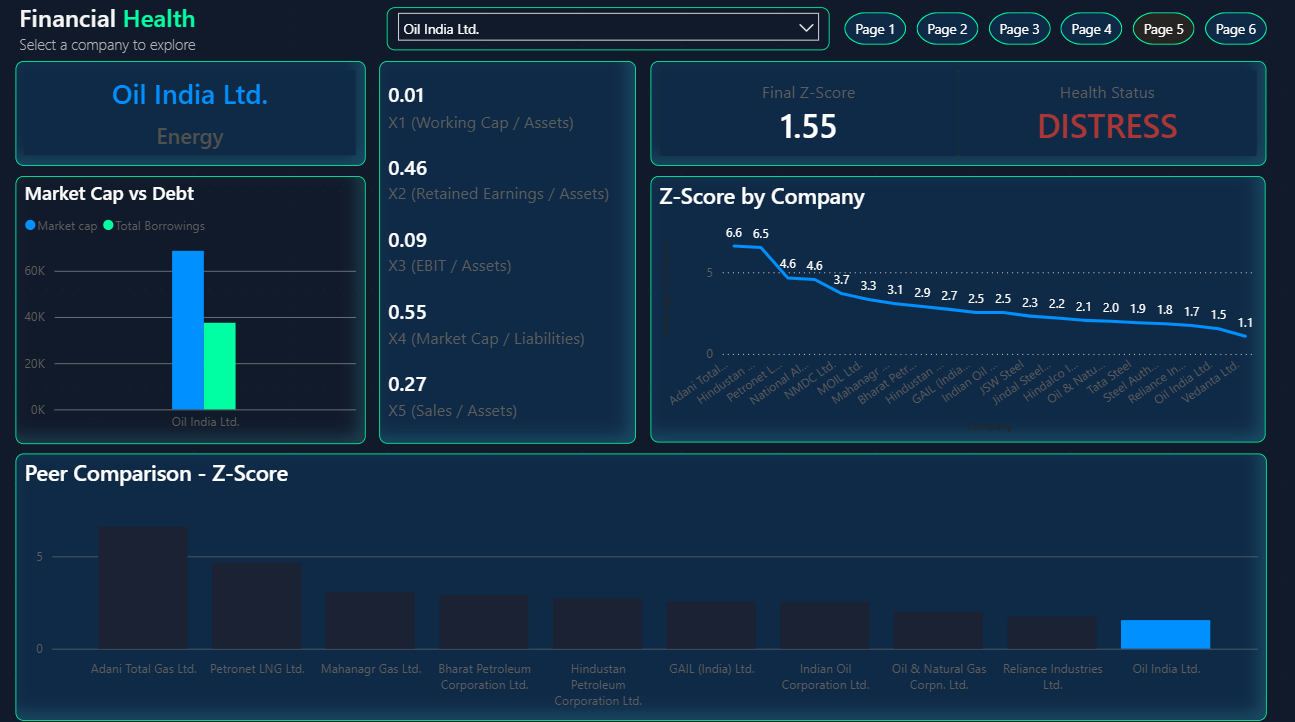

What the dashboard file says about the page in this screenshot:
{"tool":"powerbi","page":{"name":"Page 5","canvas":[1280,720],"ordinal":4},"visuals":[{"type":"textbox","box":[16,0,448,80],"z":0},{"type":"slicer","fields":{"Values":["Company (Company_Master).Company"]},"box":[382.8,11.2,436.4,42.4],"z":1000},{"type":"lineChart","title":"Z-Score by Company","fields":{"Y":["Avg(Sheet4.Z Score)"],"Category":["Company (Company_Master).Company"]},"box":[642.8,176.9,605.5,262.2],"z":2000},{"type":"cardVisual","fields":{"Data":["Company (Company_Master).Selected initial"]},"box":[31.4,538.7,183.4,103.4],"z":3000},{"type":"cardVisual","fields":{"Data":["Company (Company_Master).selected company","Company (Company_Master).selected sector"]},"box":[61.9,529.7,422.2,103.4],"z":4000},{"type":"cardVisual","fields":{"Data":["Avg(Sheet4.Z Score)","Min(Sheet4.Risk Zone)"]},"box":[642.5,64,606.8,103.4],"z":5000},{"type":"cardVisual","title":"Revenue & Profit (3Y)","fields":{"Data":["Avg(Sheet4.X1)","Avg(Sheet4.X2)","Avg(Sheet4.X3)","Avg(Sheet4.X4)","Avg(Sheet4.X5)"]},"box":[375.5,63.7,253.2,377.1],"z":6000},{"type":"clusteredColumnChart","title":"Peer Comparison - Z-Score","fields":{"Category":["Peer_Companies.Company"],"Y":["Sheet4.Peer Z Score Value"]},"box":[17.2,450.5,1232,263.4],"z":7000},{"type":"pageNavigator","box":[833.2,16,416,32],"z":8000},{"type":"cardVisual","fields":{"Data":["Company (Company_Master).selected company","Company (Company_Master).selected sector"]},"box":[17.1,63.7,344.7,103.2],"z":9000},{"type":"clusteredColumnChart","title":"Market Cap vs Debt","fields":{"Y":["Sum(Sheet4.Market cap)","Sum(Sheet4.total Borrowings)"],"Category":["Sheet4.Company"]},"box":[17.1,176.9,344.7,263.9],"z":10000}]}

Visuals, with their boxes in screenshot pixels (x1, y1, x2, y2), scaled from the page's 1280x720 canvas onto the 1295x722 screenshot:
textbox: x1=16 y1=0 x2=469 y2=80
slicer - Company (Company_Master).Company: x1=387 y1=11 x2=829 y2=54
"Z-Score by Company" lineChart: x1=650 y1=177 x2=1263 y2=440
cardVisual - Company (Company_Master).Selected initial: x1=32 y1=540 x2=217 y2=644
cardVisual - Company (Company_Master).selected company x Company (Company_Master).selected sector: x1=63 y1=531 x2=490 y2=635
cardVisual - Avg(Sheet4.Z Score) x Min(Sheet4.Risk Zone): x1=650 y1=64 x2=1264 y2=168
"Revenue & Profit (3Y)" cardVisual: x1=380 y1=64 x2=636 y2=442
"Peer Comparison - Z-Score" clusteredColumnChart: x1=17 y1=452 x2=1264 y2=716
pageNavigator: x1=843 y1=16 x2=1264 y2=48
cardVisual - Company (Company_Master).selected company x Company (Company_Master).selected sector: x1=17 y1=64 x2=366 y2=167
"Market Cap vs Debt" clusteredColumnChart: x1=17 y1=177 x2=366 y2=442
